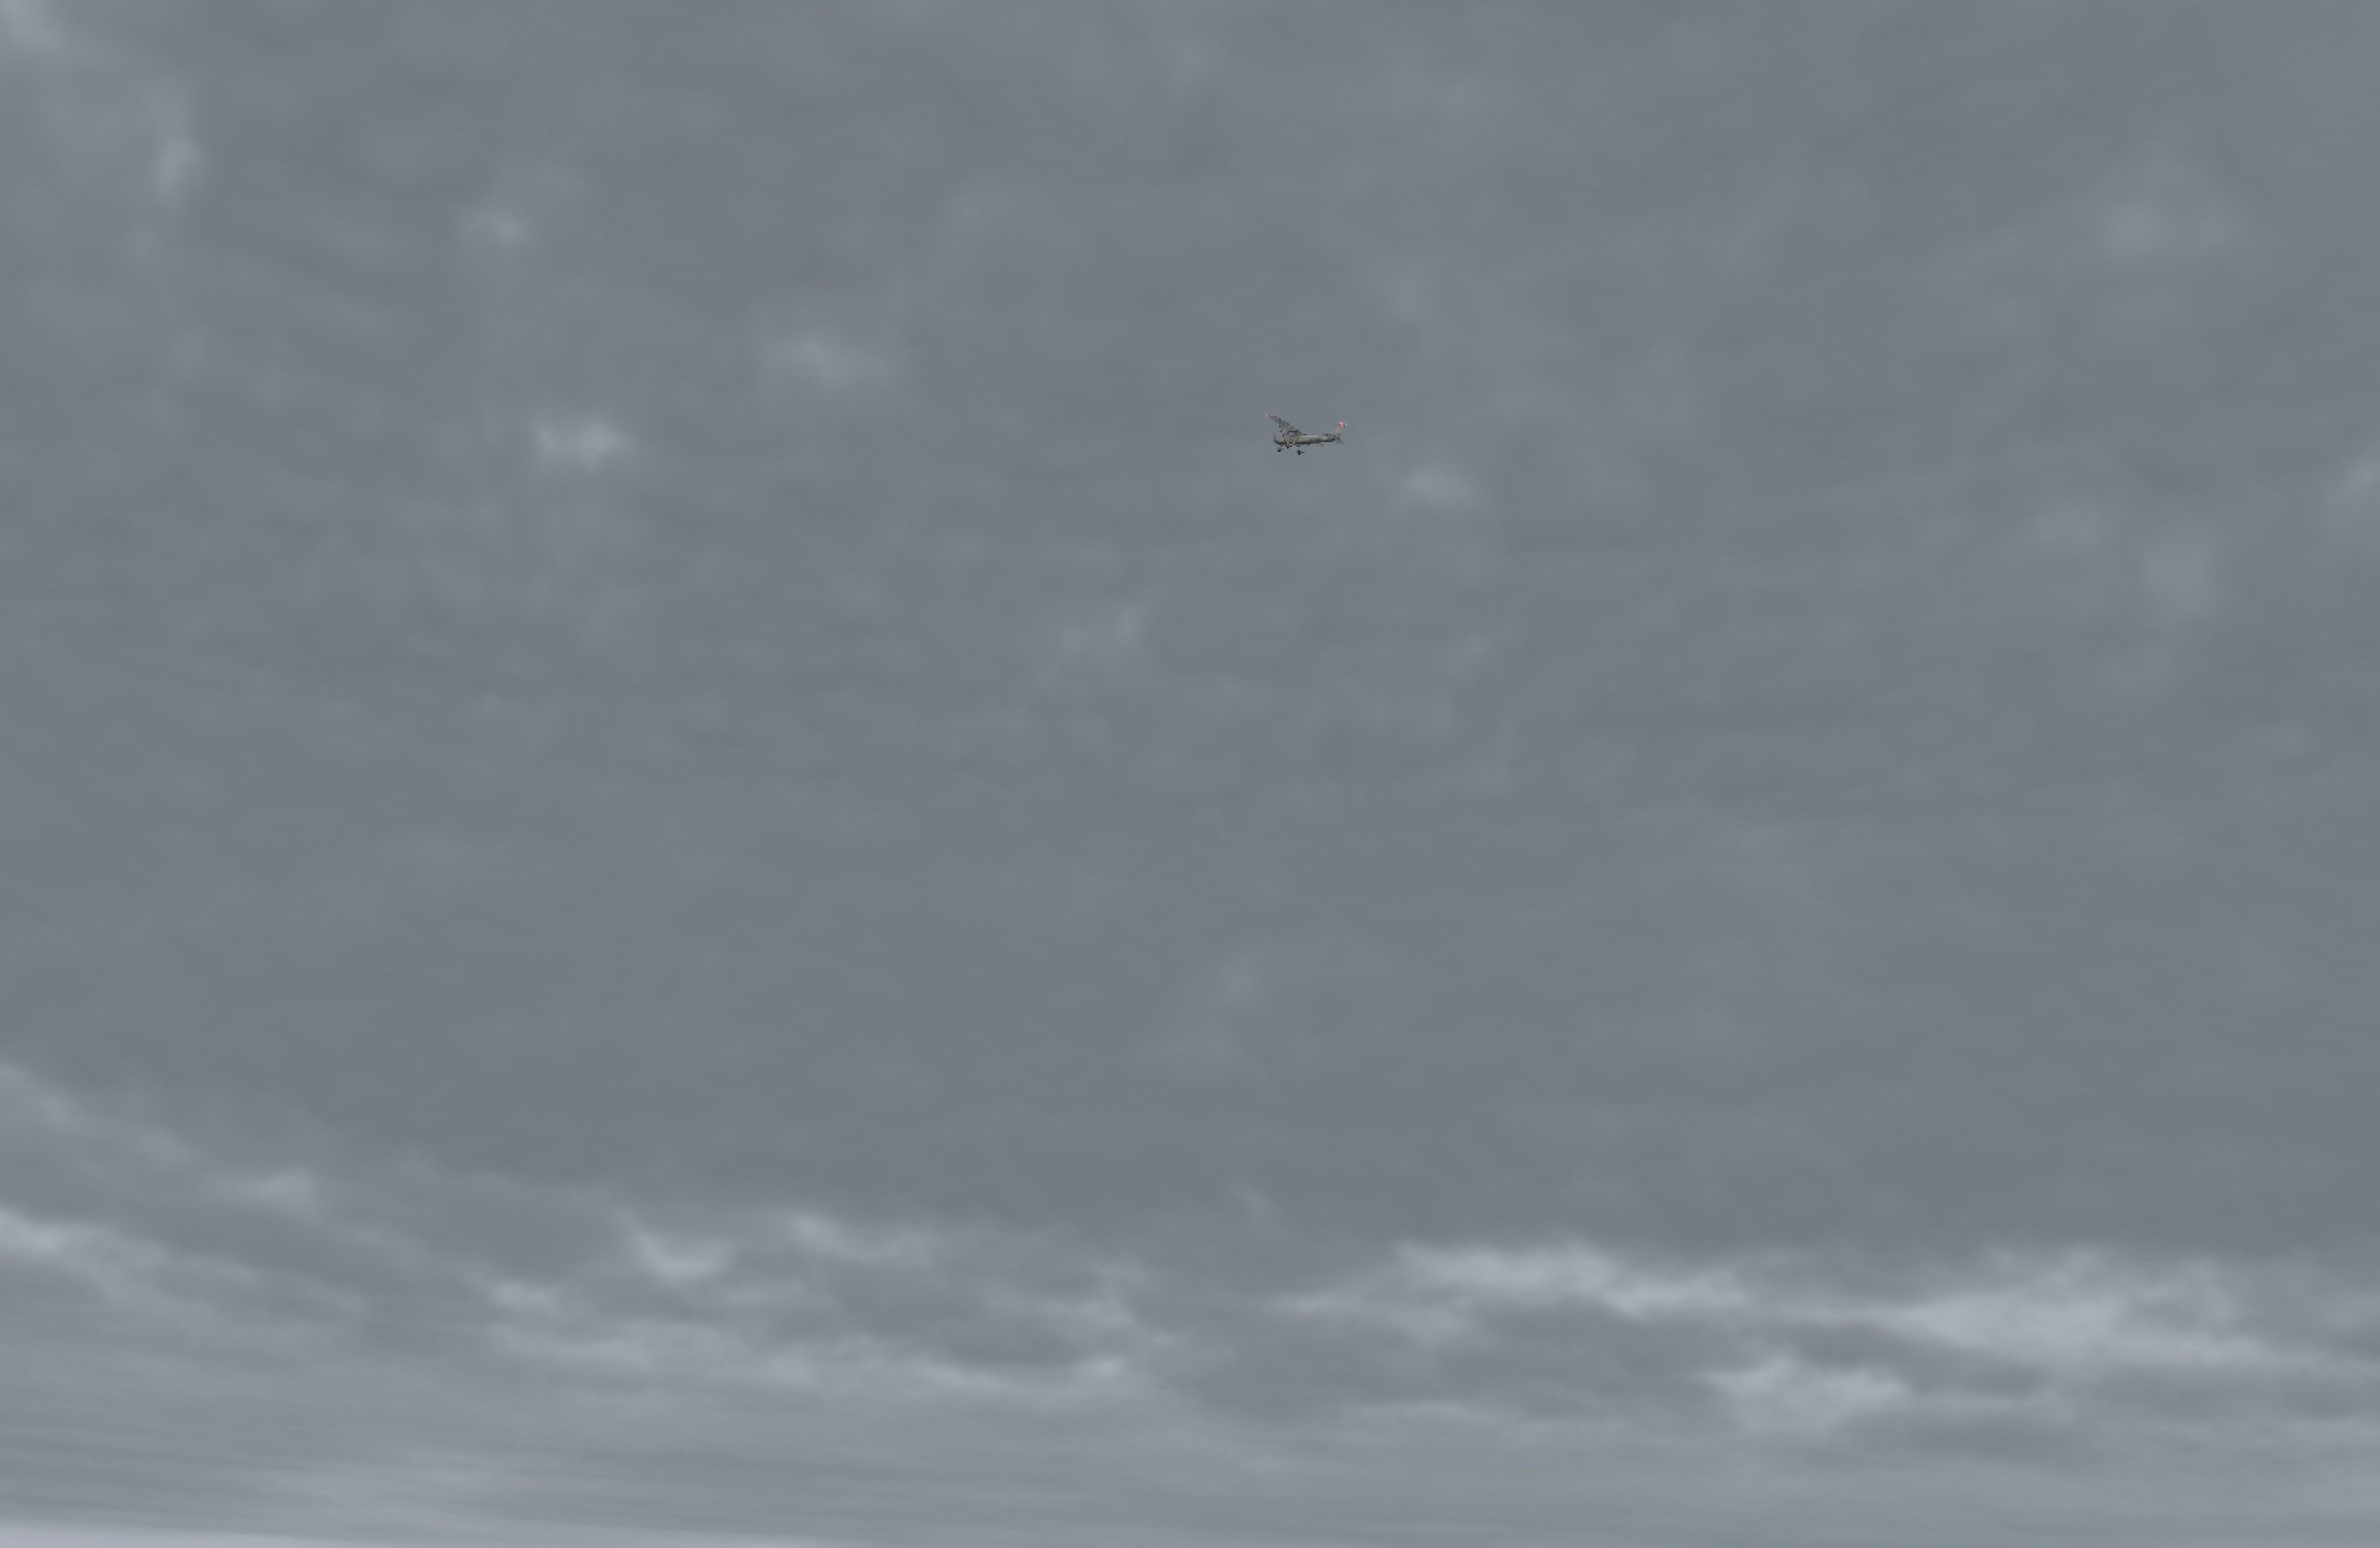aircraft: (1254, 423, 1332, 453)
